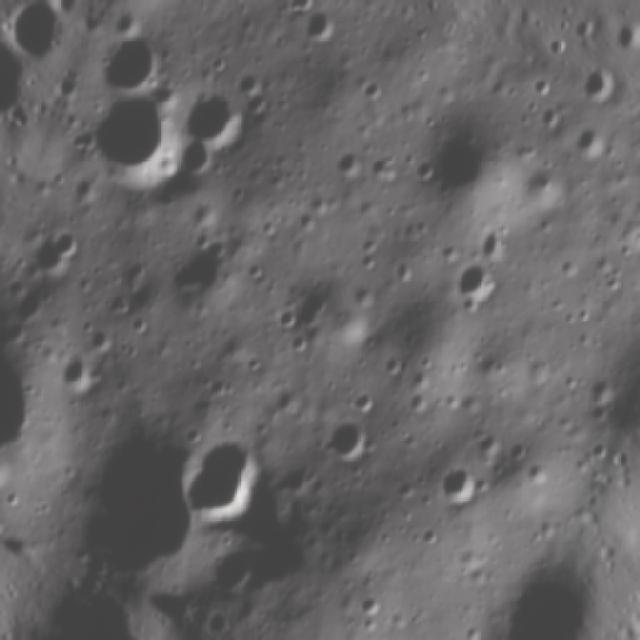crater: (51, 415, 224, 593), (399, 98, 521, 224), (174, 419, 286, 544), (82, 79, 198, 193), (90, 10, 192, 113), (152, 213, 251, 318), (171, 79, 254, 161), (28, 212, 102, 291), (438, 243, 512, 317), (424, 453, 494, 518), (282, 269, 346, 340), (320, 404, 388, 468), (512, 157, 572, 215), (47, 342, 102, 403), (560, 109, 617, 165), (299, 0, 350, 57), (80, 317, 123, 361), (272, 0, 331, 26), (346, 585, 386, 620), (635, 248, 640, 308)
